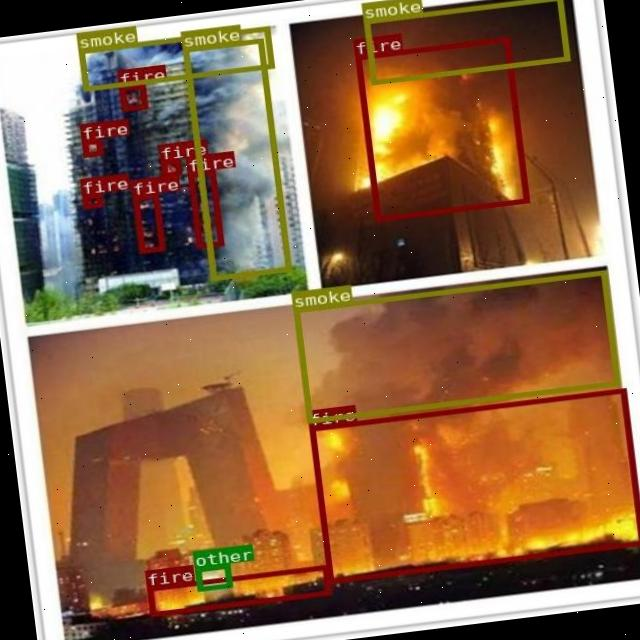fire: (308, 387, 640, 583), (354, 35, 527, 220), (147, 564, 330, 616), (186, 169, 222, 248), (132, 192, 164, 253), (118, 83, 146, 110), (160, 157, 181, 176), (80, 138, 102, 156), (80, 192, 102, 208)
smoke: (293, 269, 619, 422), (180, 37, 290, 280), (363, 0, 568, 83), (77, 25, 273, 90)
